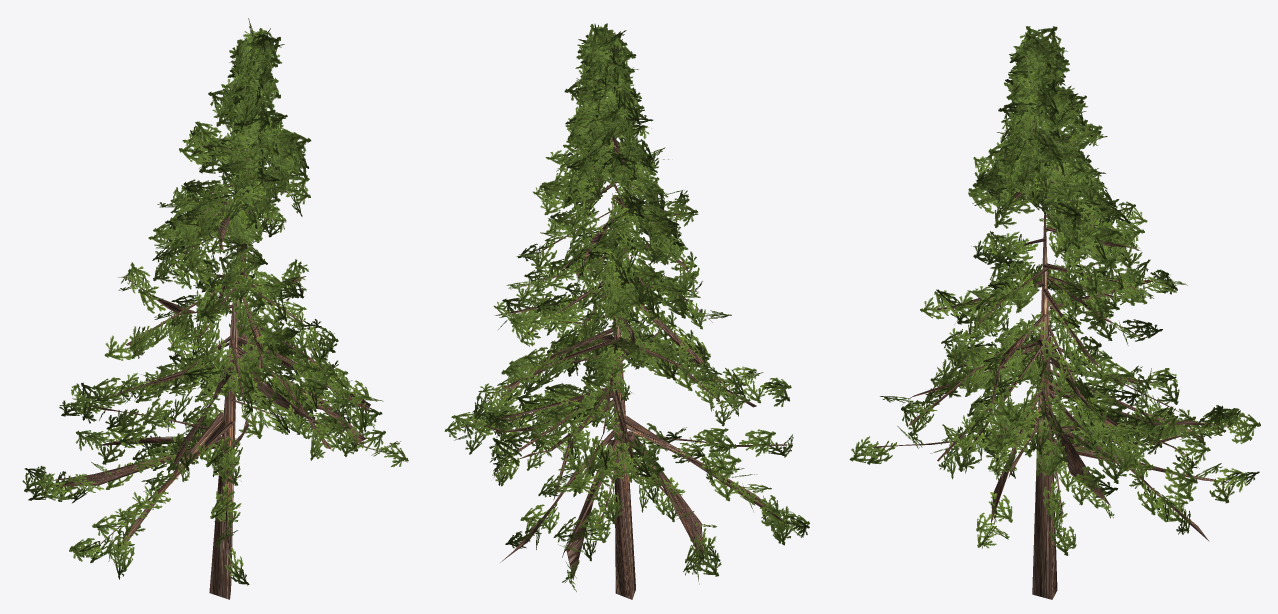
3 views of the same model, side by side, from view 1: azimuth 30°, elevation 25°; view 2: azimuth 150°, elevation 25°; view 3: azimuth 270°, elevation 25° (orthographic). The views are drawn at different scales.
Visible parts, largest first — view 1: branches, branches.001; view 2: branches, branches.001; view 3: branches, branches.001.
Part boxes in pixels (x1,y1,x2,y2): branches: [22, 18, 408, 585]; branches.001: [41, 82, 381, 599]; branches: [444, 23, 809, 591]; branches.001: [457, 91, 787, 599]; branches: [849, 26, 1260, 555]; branches.001: [872, 95, 1235, 599].
Size of the model in its own units: 12.58 by 20.45 by 13.15.
2 materials, 2 textured.
